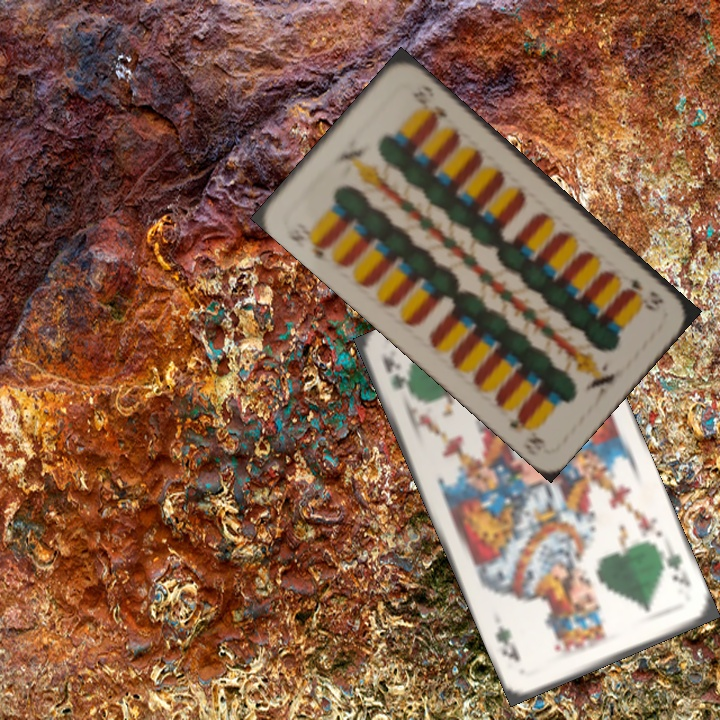E10: (281, 221, 335, 263), (620, 271, 667, 314)
GK: (378, 352, 416, 402), (657, 545, 694, 590)
